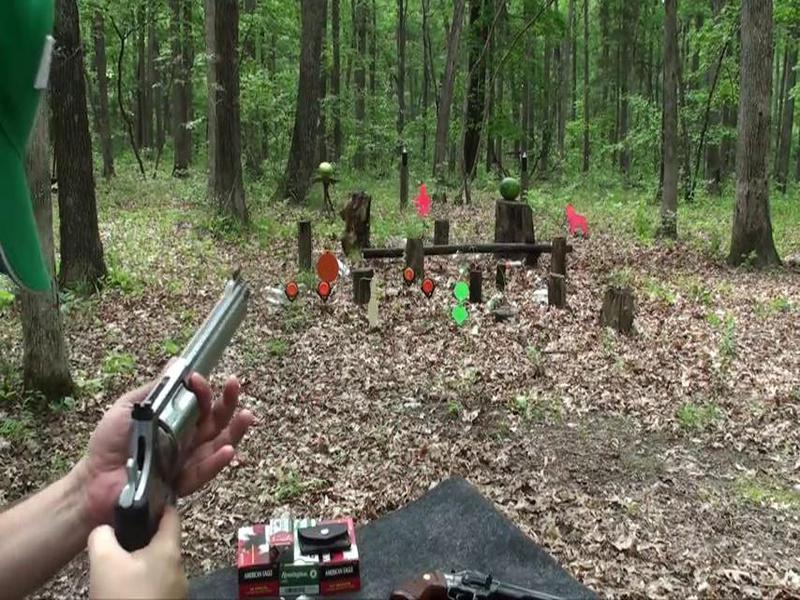Revolver: (99, 273, 264, 551)
